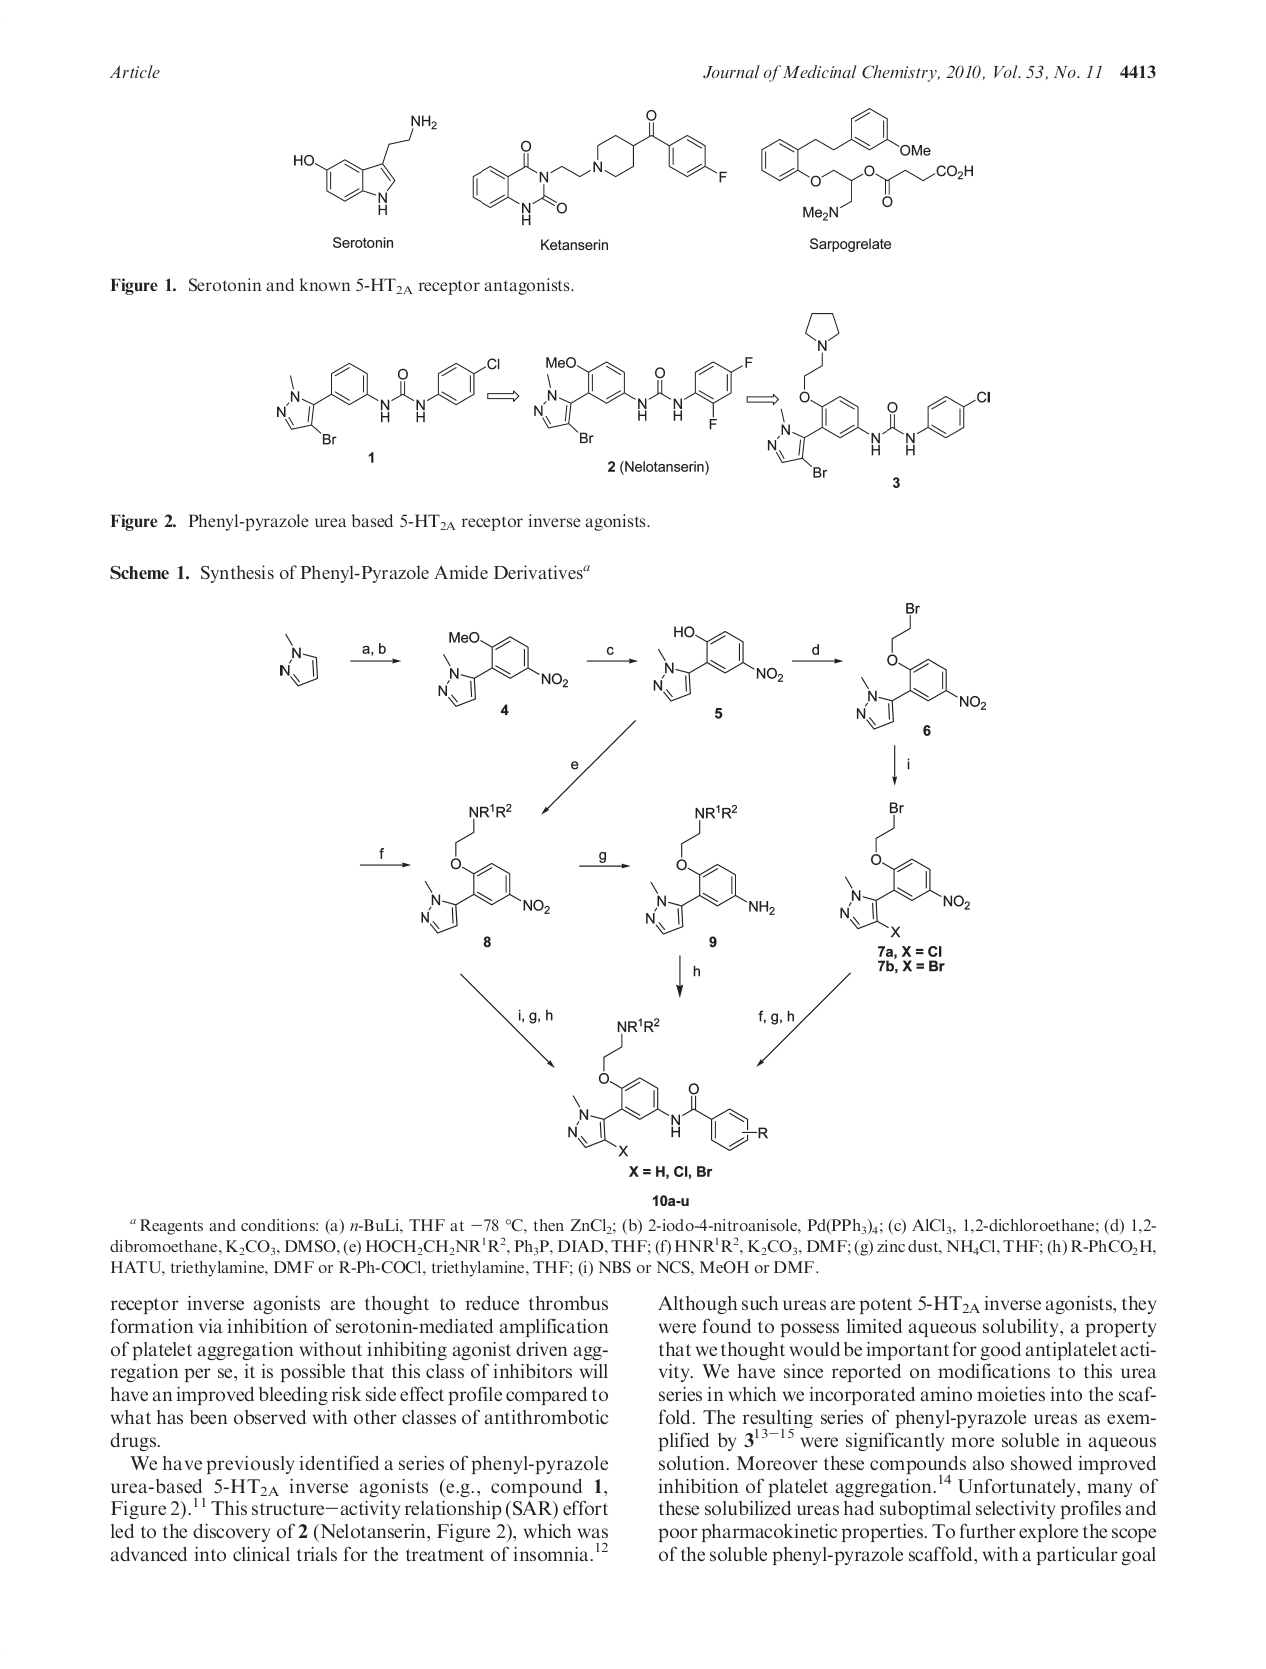exist_molecular: (758, 307, 1001, 477), (563, 1019, 774, 1182), (464, 106, 730, 230), (750, 102, 976, 219), (269, 346, 504, 449), (525, 344, 758, 446), (834, 795, 979, 938), (418, 791, 557, 939), (848, 594, 989, 735), (640, 797, 781, 938), (285, 109, 445, 221), (644, 614, 789, 705), (423, 625, 570, 711), (273, 621, 336, 692)
